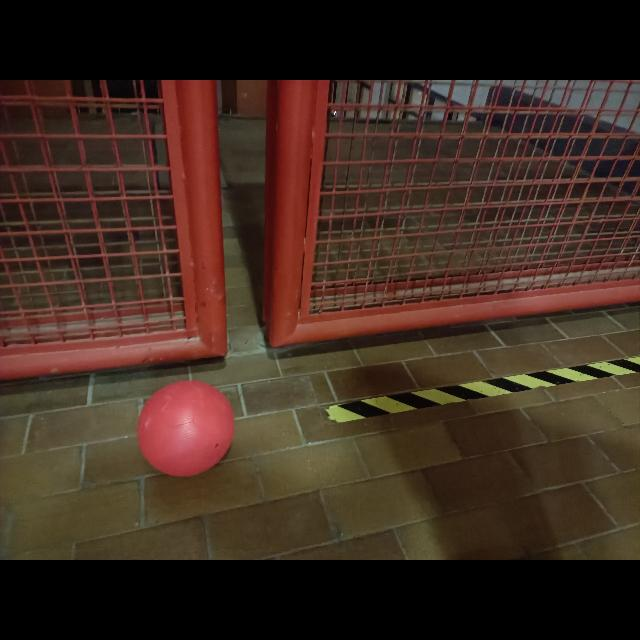R: (134, 378, 238, 478)
